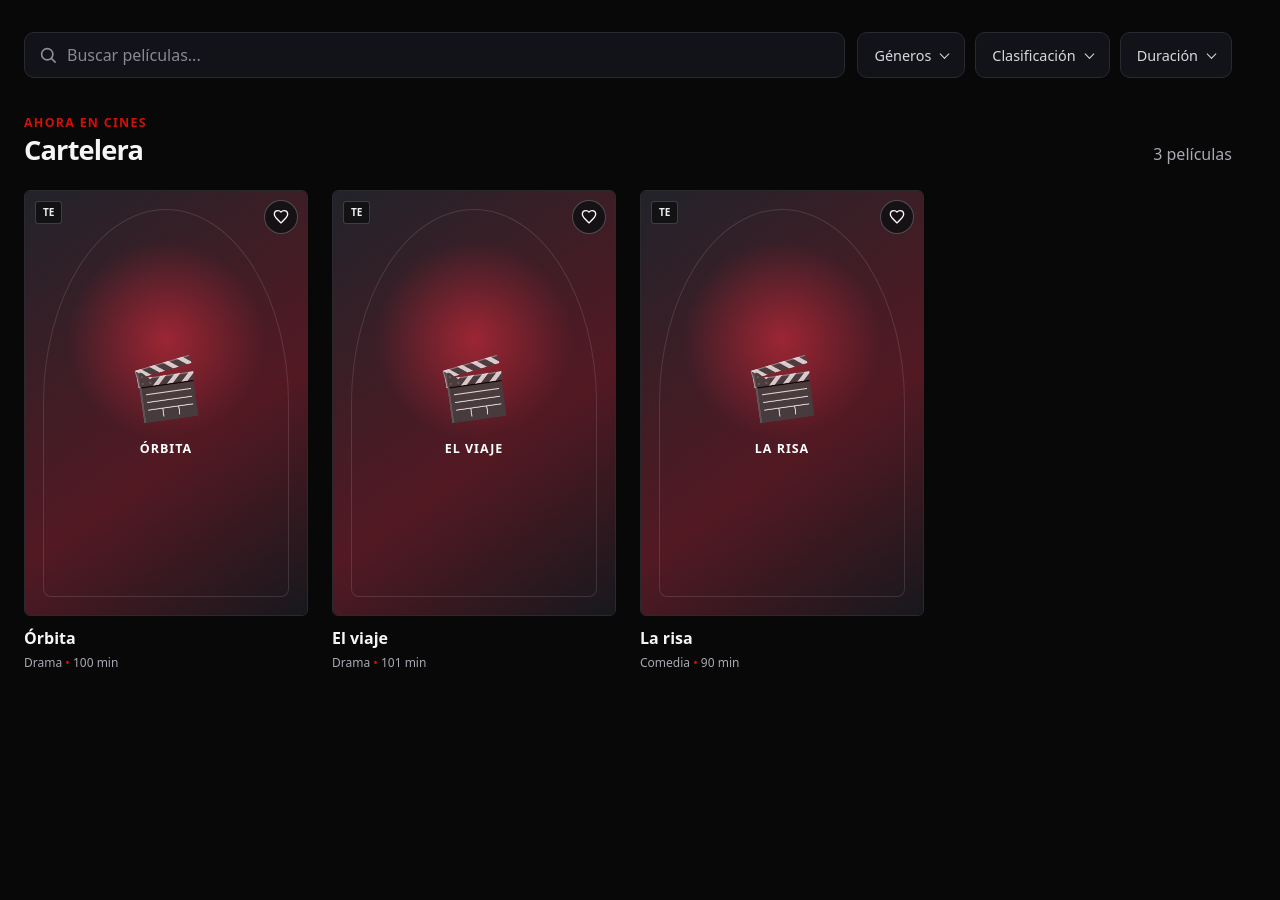
Test: Búsqueda y filtros de cartelera › busca por título sin distinguir tildes ni mayúsculas y recupera la lista al borrar
Step 1. Type "ORBITA" into the search field named "Buscar una película" → (451, 55), box [67,33,834,77]
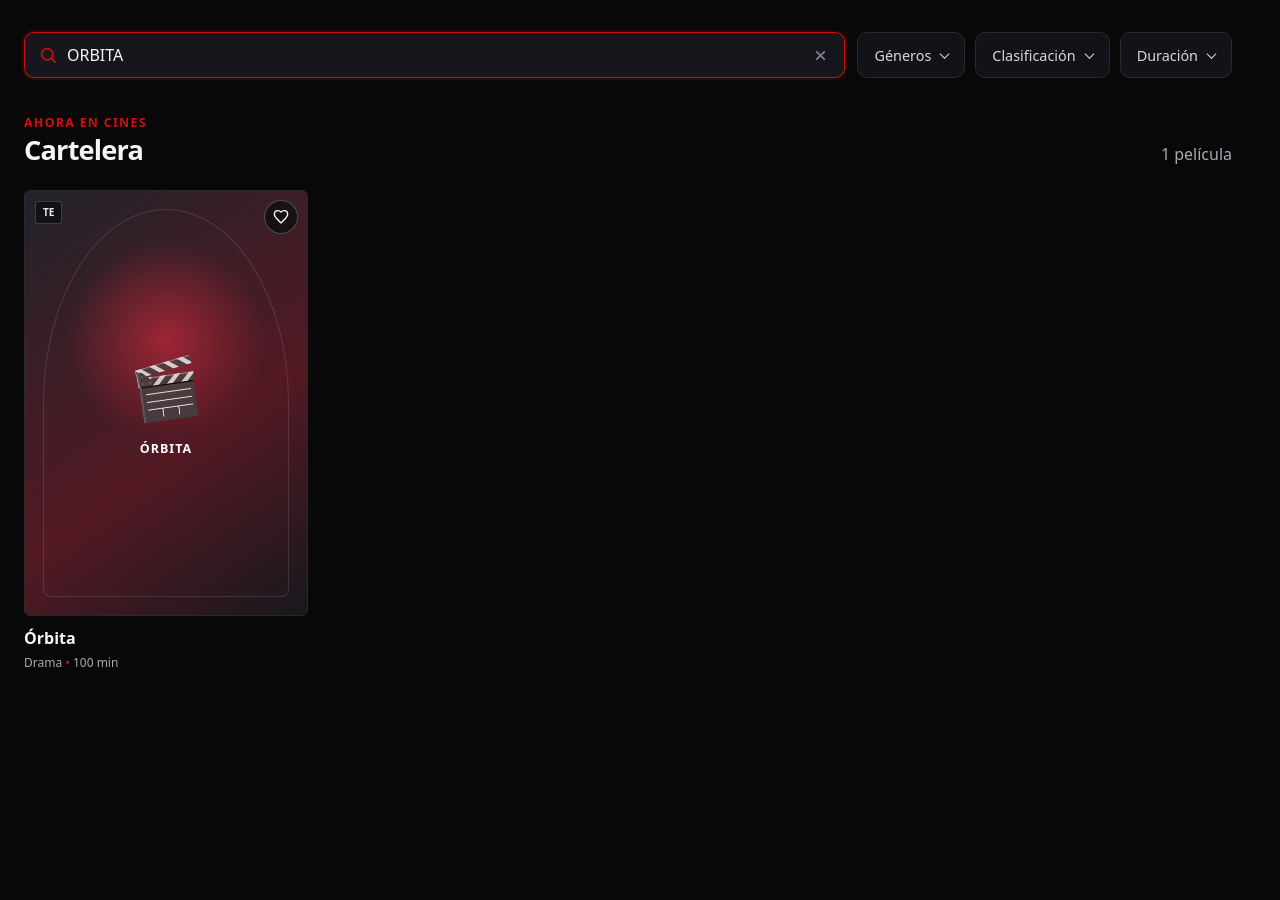
Step 2. Type " inexistente" into the search field named "Buscar una película" → (432, 55), box [67,33,796,77]
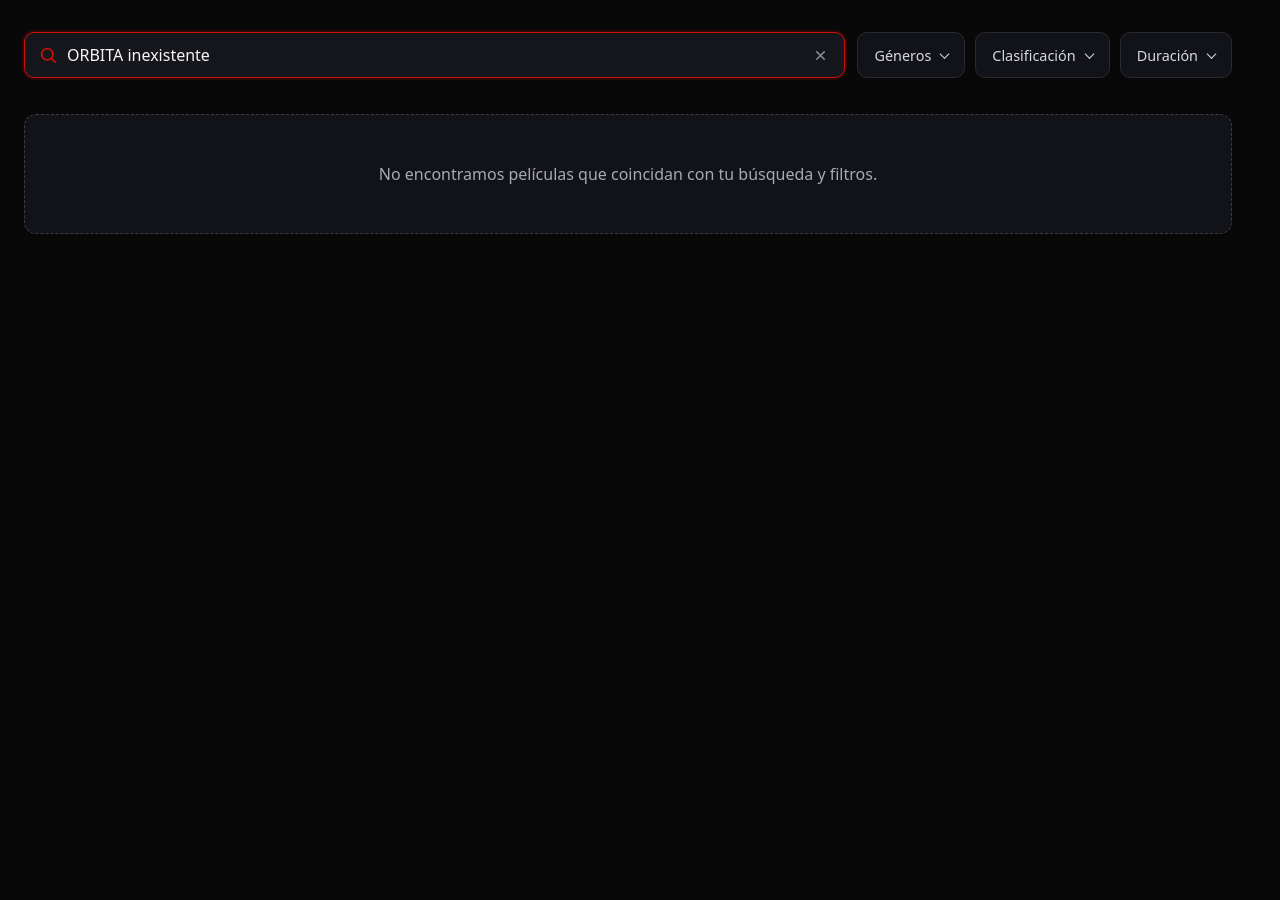
Result: the message reads "No encontramos películas que coincidan con tu búsqueda y filtros." at [379,163,877,185]
Result: the heading "Cartelera" is gone
Step 3. Click the button named "Borrar búsqueda" → (820, 55), box [806,41,834,69]
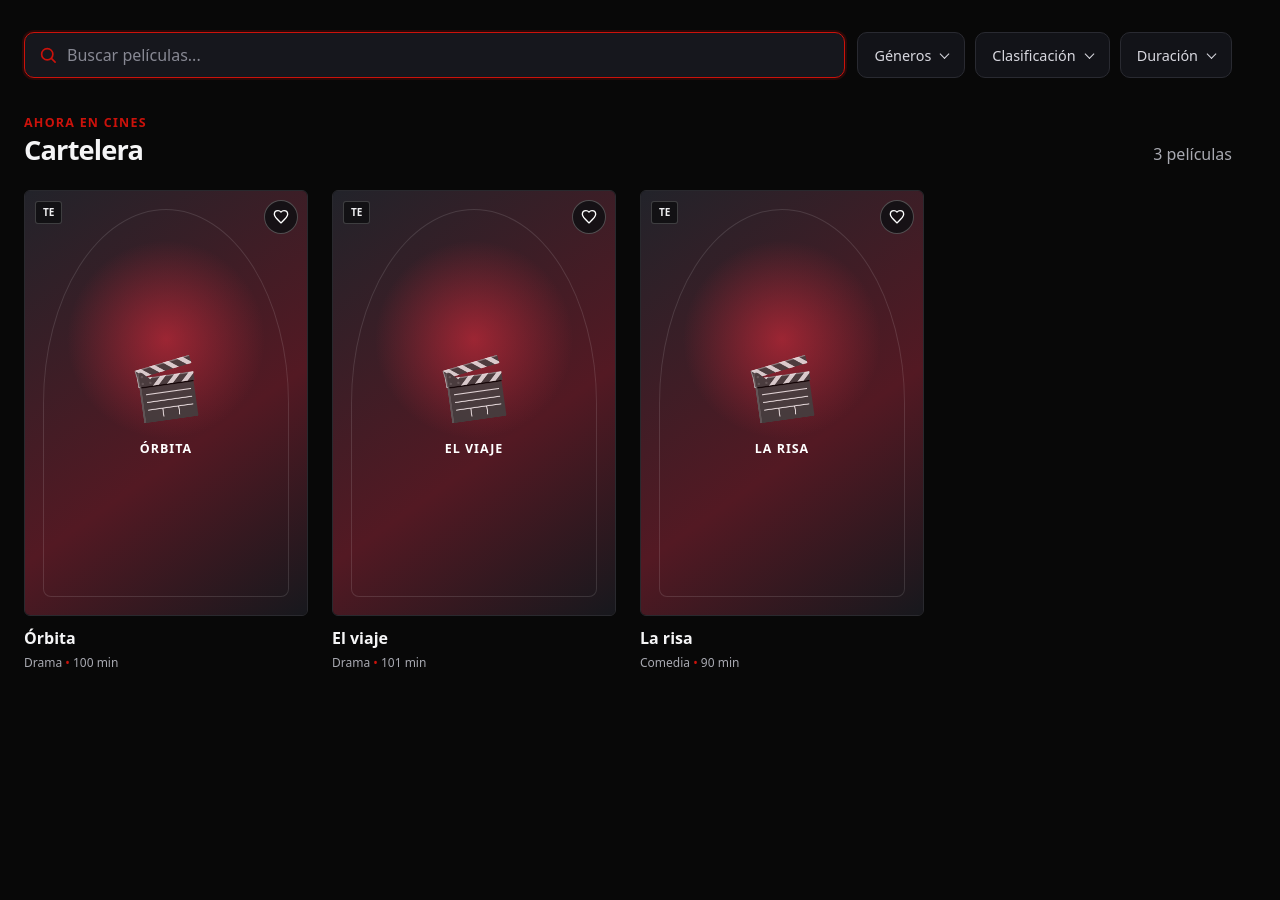
Result: the search field named "Buscar una película" is empty at [67,33,834,77]
